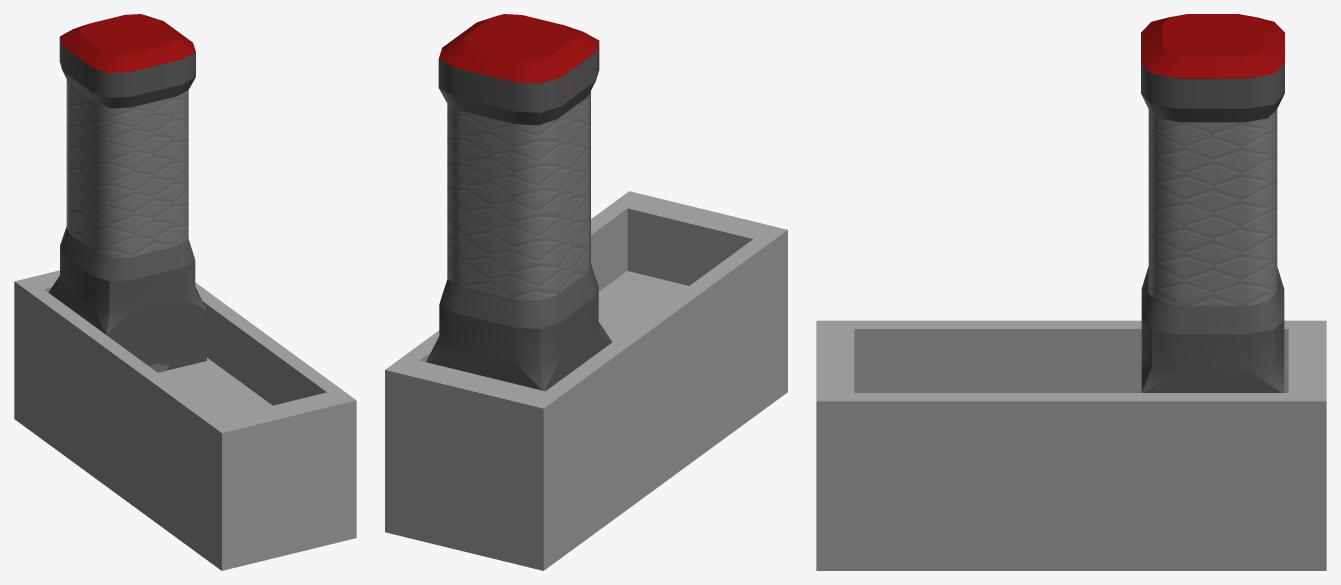
The model's file is handle 0.6.fbx.
3 views of the same model, side by side, from view 1: azimuth 30°, elevation 25°; view 2: azimuth 150°, elevation 25°; view 3: azimuth 270°, elevation 25° (orthographic). The views are drawn at different scales.
Parts seen in each view (by area): view 1: hendelhouder06, hendel06; view 2: hendelhouder06, hendel06; view 3: hendelhouder06, hendel06.
Part boxes in pixels (x1,y1,x2,y2): hendelhouder06: [14, 270, 356, 570]; hendel06: [48, 14, 206, 372]; hendelhouder06: [385, 191, 787, 570]; hendel06: [426, 14, 612, 391]; hendelhouder06: [816, 320, 1326, 570]; hendel06: [1141, 14, 1284, 392].
Bounding box in the file's own units: 3.87 × 11.05 × 10.32.
